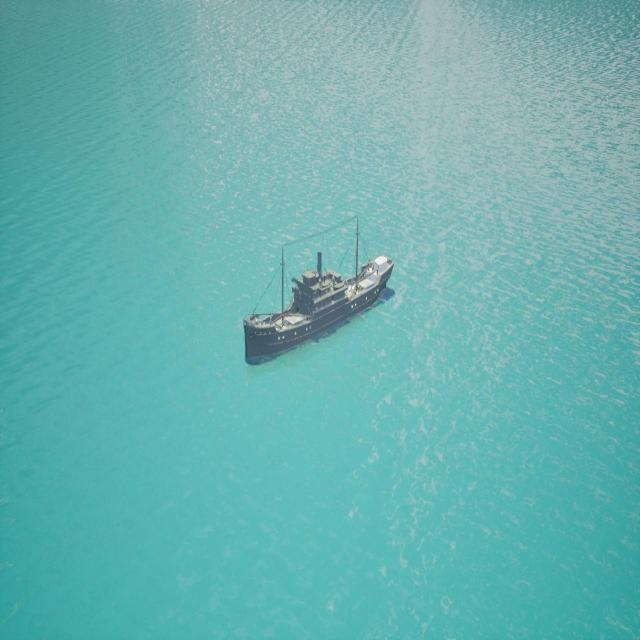fishing ship: (244, 257, 397, 366)
